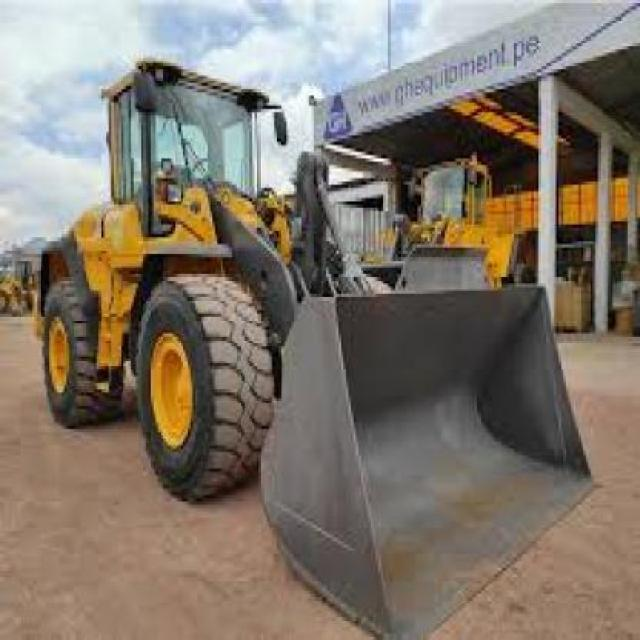buldozerpayloadergrader: (40, 42, 600, 627)
